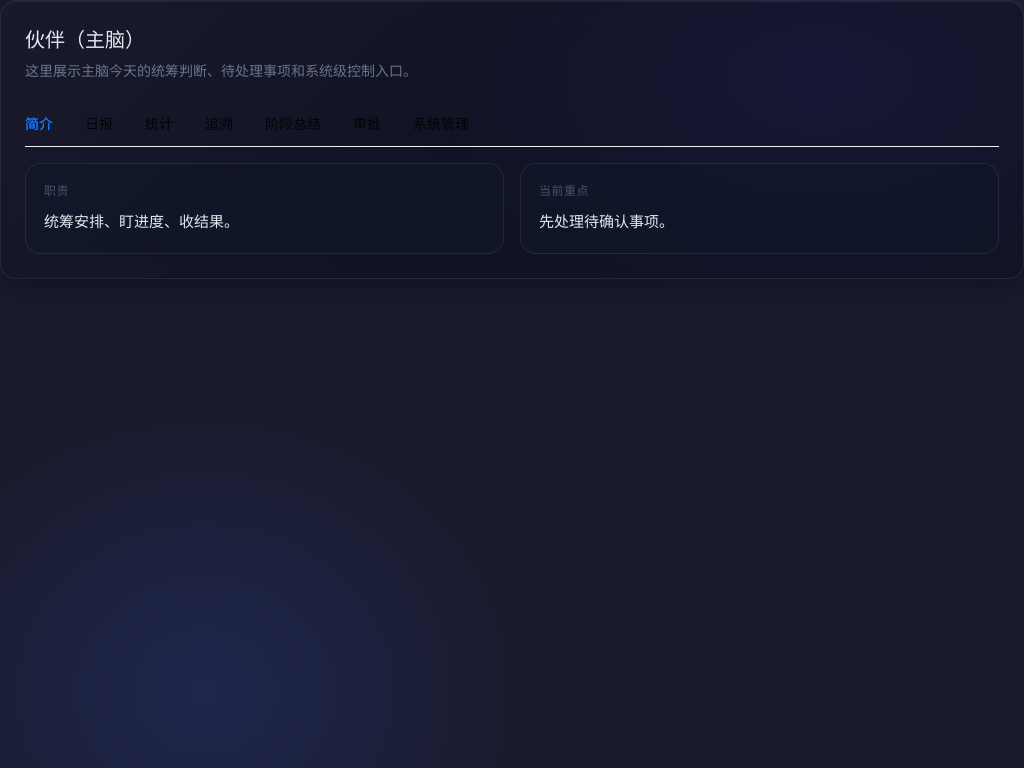
it: MainBrainCockpitPanel › renders trace lines inside the trace tab
The image size is (1024, 768).
Click the tab "追溯".
click(219, 124)  # box x1=205 y1=113 x2=233 y2=135
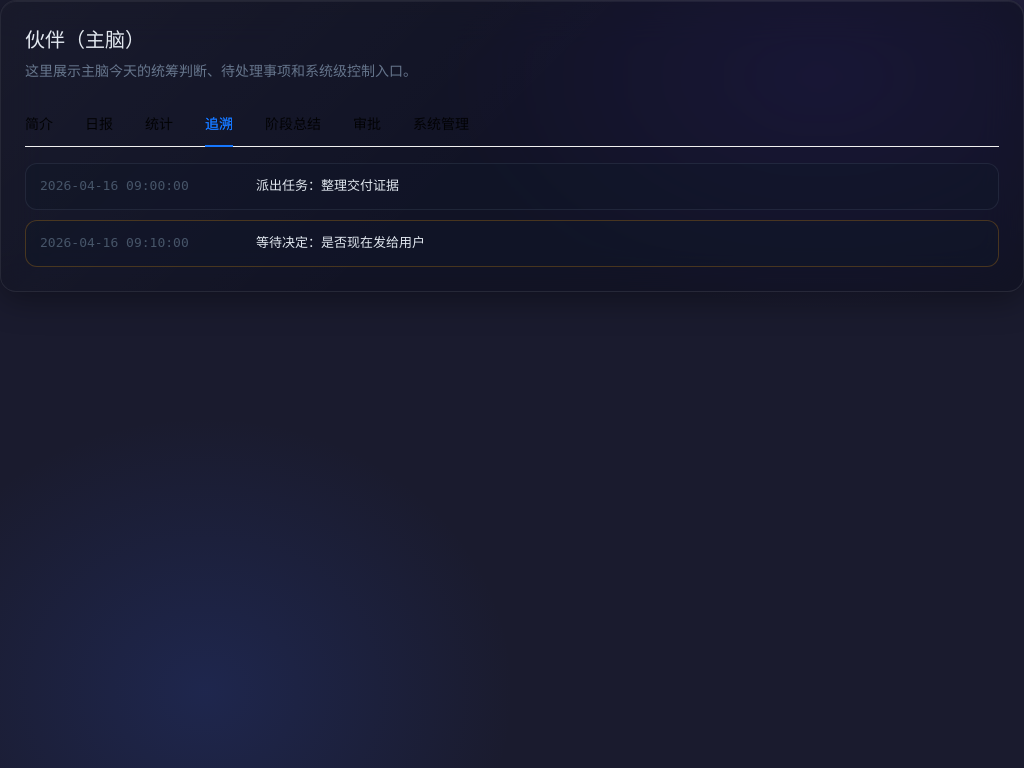
Check: the text "2026-04-16 09:00:00" is shown, box x1=40 y1=178 x2=189 y2=193
Check: the text "派出任务：整理交付证据" is shown, box x1=256 y1=178 x2=399 y2=193
Check: the text "等待决定：是否现在发给用户" is shown, box x1=256 y1=235 x2=425 y2=250
